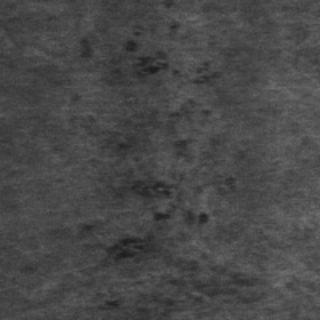rolled pit: (91, 37, 220, 257)
